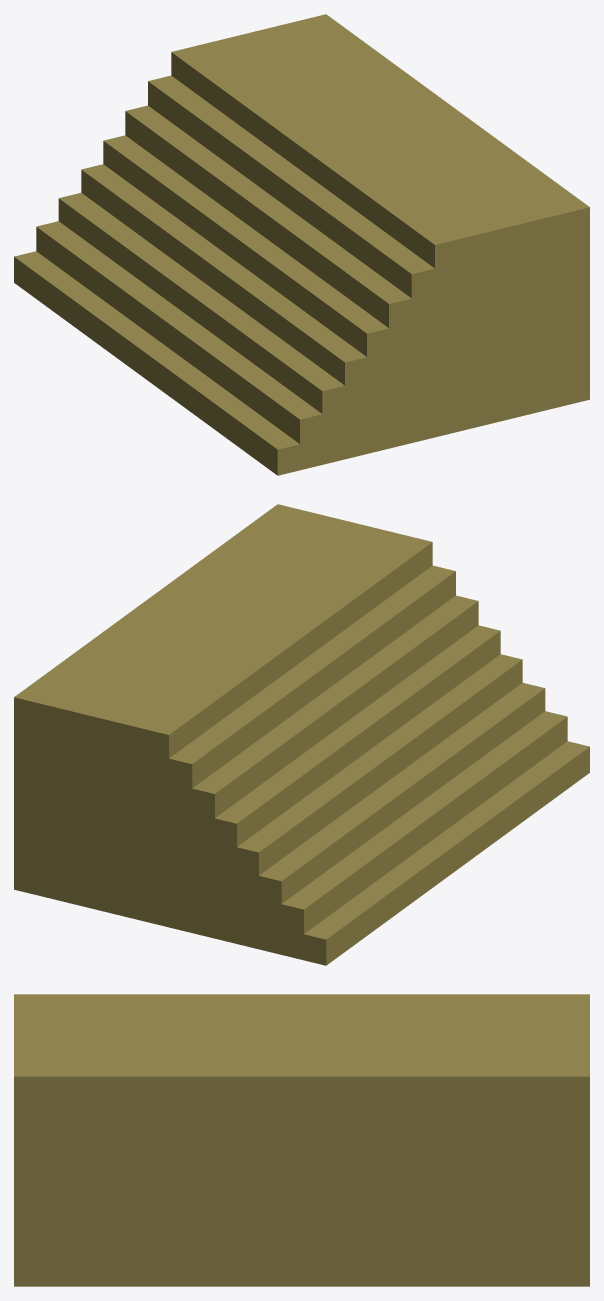
Rendered from StairsFBX.fbx.
The picture shows the model from 3 angles, top to bottom: view 1: azimuth 30°, elevation 25°; view 2: azimuth 150°, elevation 25°; view 3: azimuth 270°, elevation 25°; orthographic projection. The views are drawn at different scales.
Visible parts, largest first — view 1: Steps; view 2: Steps; view 3: Steps.
Boxes of the visible parts, <box> form: Steps: <box>14,14,589,475</box>; Steps: <box>14,504,589,965</box>; Steps: <box>14,994,589,1286</box>.
Size of the model in its own units: 5.31 by 3.13 by 7.78.
